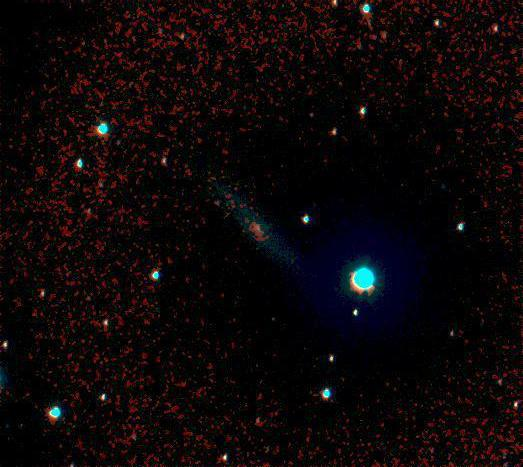star: (69, 30, 99, 60)
